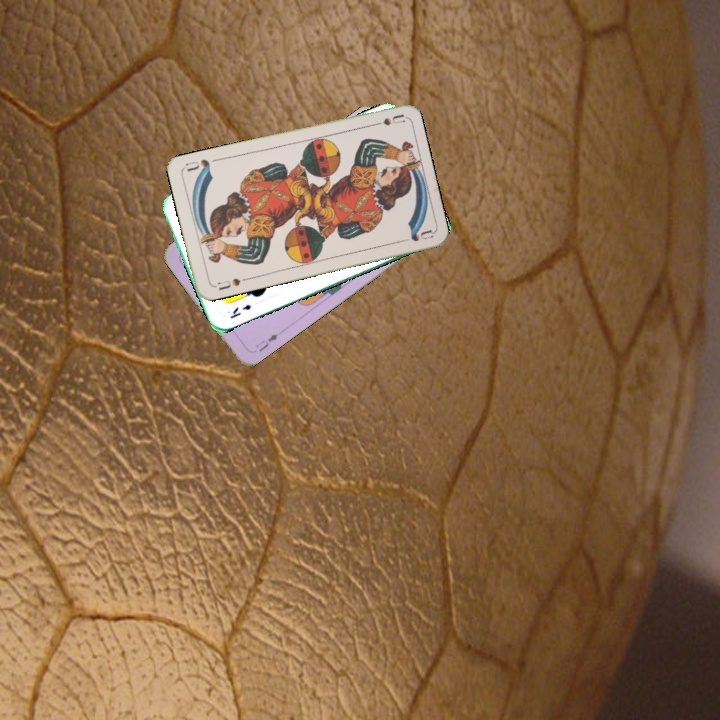EK: (226, 300, 254, 321)
EU: (251, 329, 281, 354)
SU: (365, 110, 406, 129), (213, 274, 250, 293)
